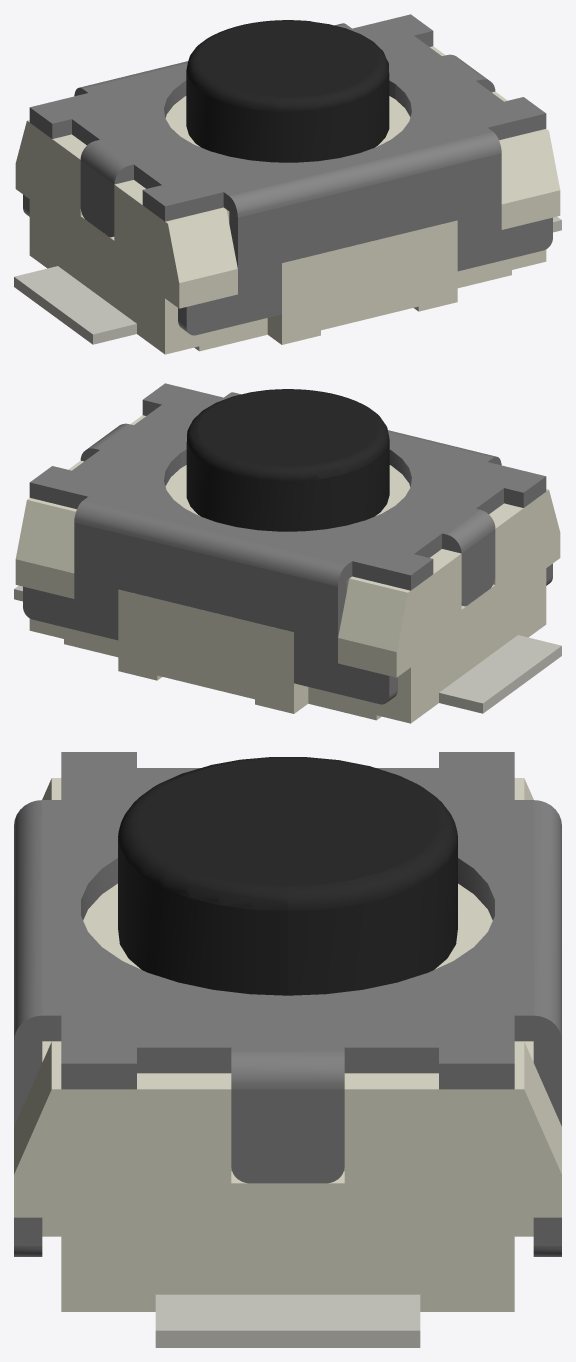
Rendered from kc-sw_push_spst_no_alps_skrk.glb.
3 views of the same model, one above another, from view 1: azimuth 30°, elevation 25°; view 2: azimuth 150°, elevation 25°; view 3: azimuth 270°, elevation 25° (orthographic). The views are drawn at different scales.
Visible parts, largest first — view 1: 0.25_0.25_0.25_0, 0.75_0.75_0.6666666666666666_0, 0_0_0_0, 0.6666666666666666_0.6666666666666666_0.5833333333333334_0.8; view 2: 0.25_0.25_0.25_0, 0.75_0.75_0.6666666666666666_0, 0_0_0_0, 0.6666666666666666_0.6666666666666666_0.5833333333333334_0.8; view 3: 0.25_0.25_0.25_0, 0.75_0.75_0.6666666666666666_0, 0_0_0_0, 0.6666666666666666_0.6666666666666666_0.5833333333333334_0.8.
Part boxes in pixels (box(x1,y1,x2,y2)): 0.25_0.25_0.25_0: box(23, 14, 552, 335); 0.75_0.75_0.6666666666666666_0: box(15, 46, 560, 354); 0_0_0_0: box(186, 20, 389, 162); 0.6666666666666666_0.6666666666666666_0.5833333333333334_0.8: box(14, 216, 561, 344); 0.25_0.25_0.25_0: box(23, 383, 552, 704); 0.75_0.75_0.6666666666666666_0: box(15, 415, 560, 723); 0_0_0_0: box(186, 389, 389, 531); 0.6666666666666666_0.6666666666666666_0.5833333333333334_0.8: box(14, 585, 561, 713); 0.25_0.25_0.25_0: box(14, 752, 561, 1256); 0.75_0.75_0.6666666666666666_0: box(14, 778, 561, 1311); 0_0_0_0: box(118, 757, 457, 995); 0.6666666666666666_0.6666666666666666_0.5833333333333334_0.8: box(155, 1294, 420, 1347).
Size of the model in its own units: 0.48 by 0.2 by 0.29.
